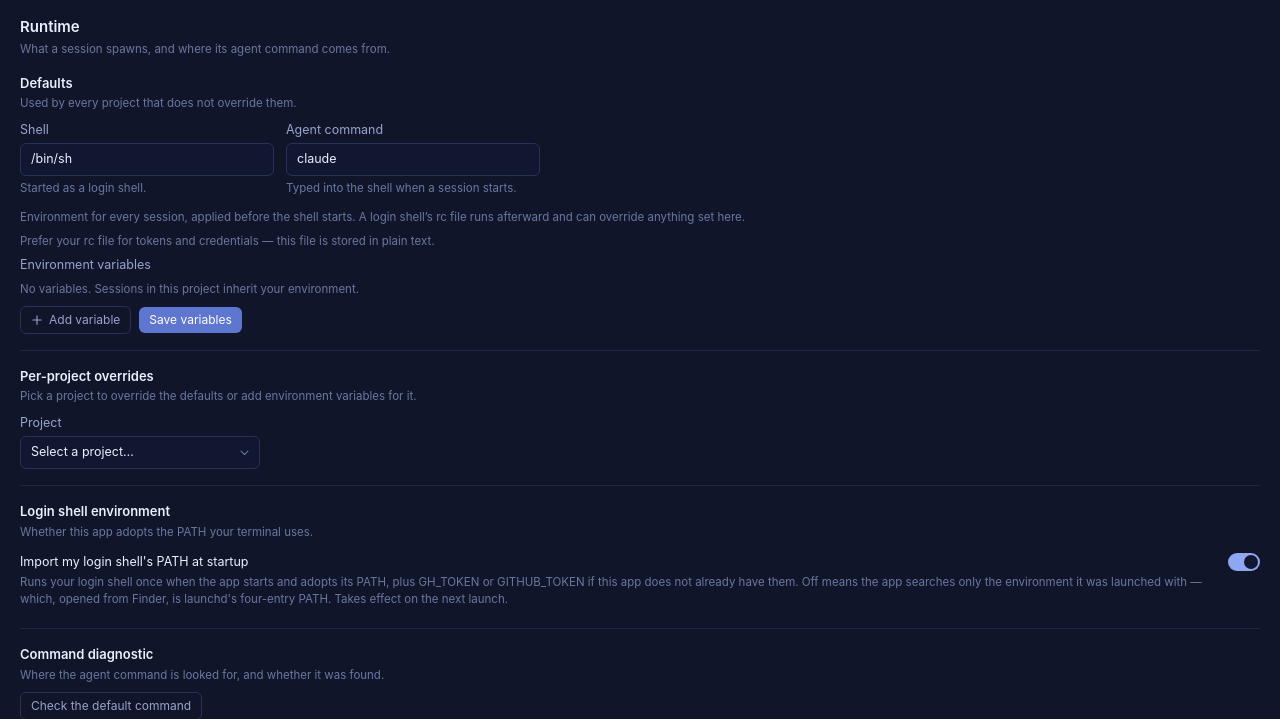
Test: RuntimeSection — workspace environment › gives each env editor a distinct accessible name once a project is also shown
Select "nova-web" in the dropdown labelled "Project": x=140, y=453 [20,436,260,469]
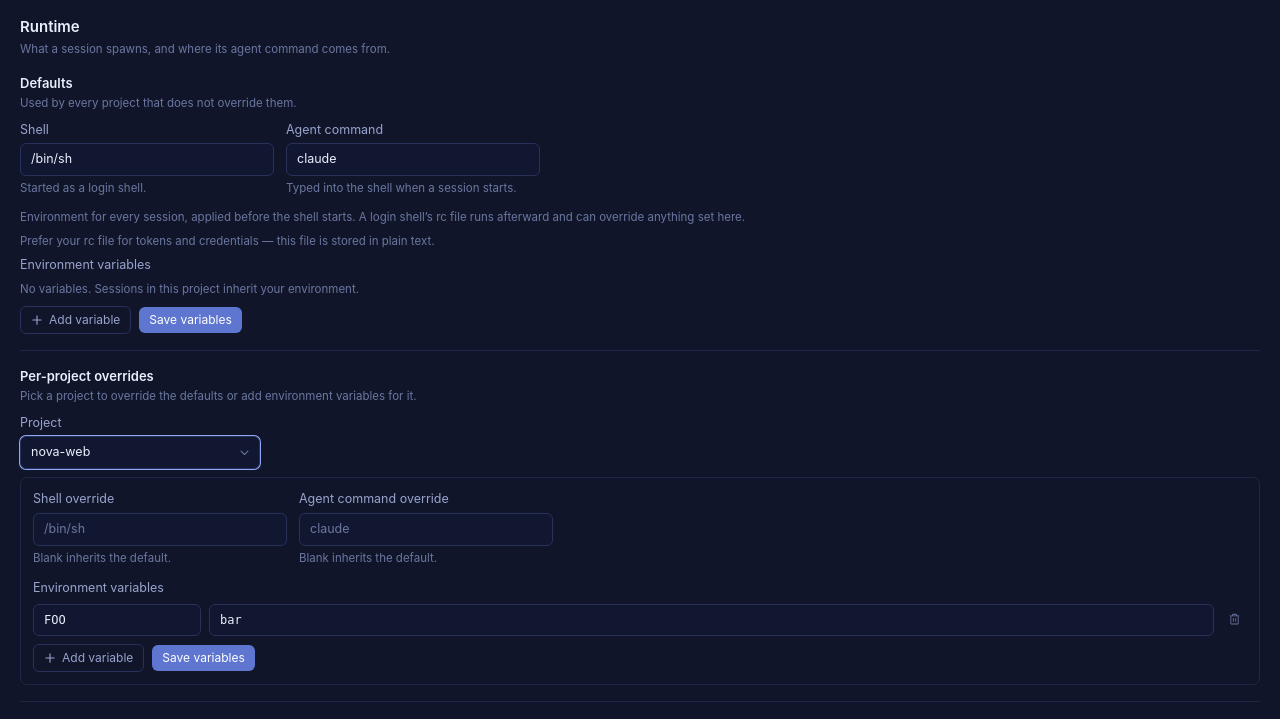
Expected: the button "Save variables" below "Started as a login shell." is shown, [139,307,242,333]
Result: the button "Save variables" below "Shell override" is shown at [152,644,255,670]
